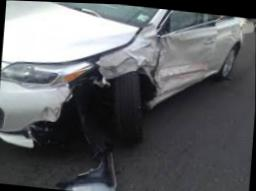Bumper: (0, 78, 117, 148)
Door: (152, 20, 218, 102)
Fender: (80, 28, 161, 107)
